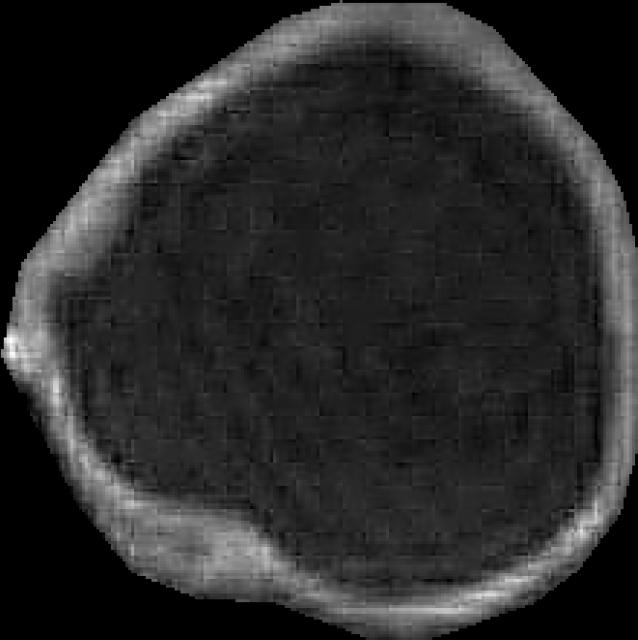tumor_good_chance: (1, 0, 638, 640)
